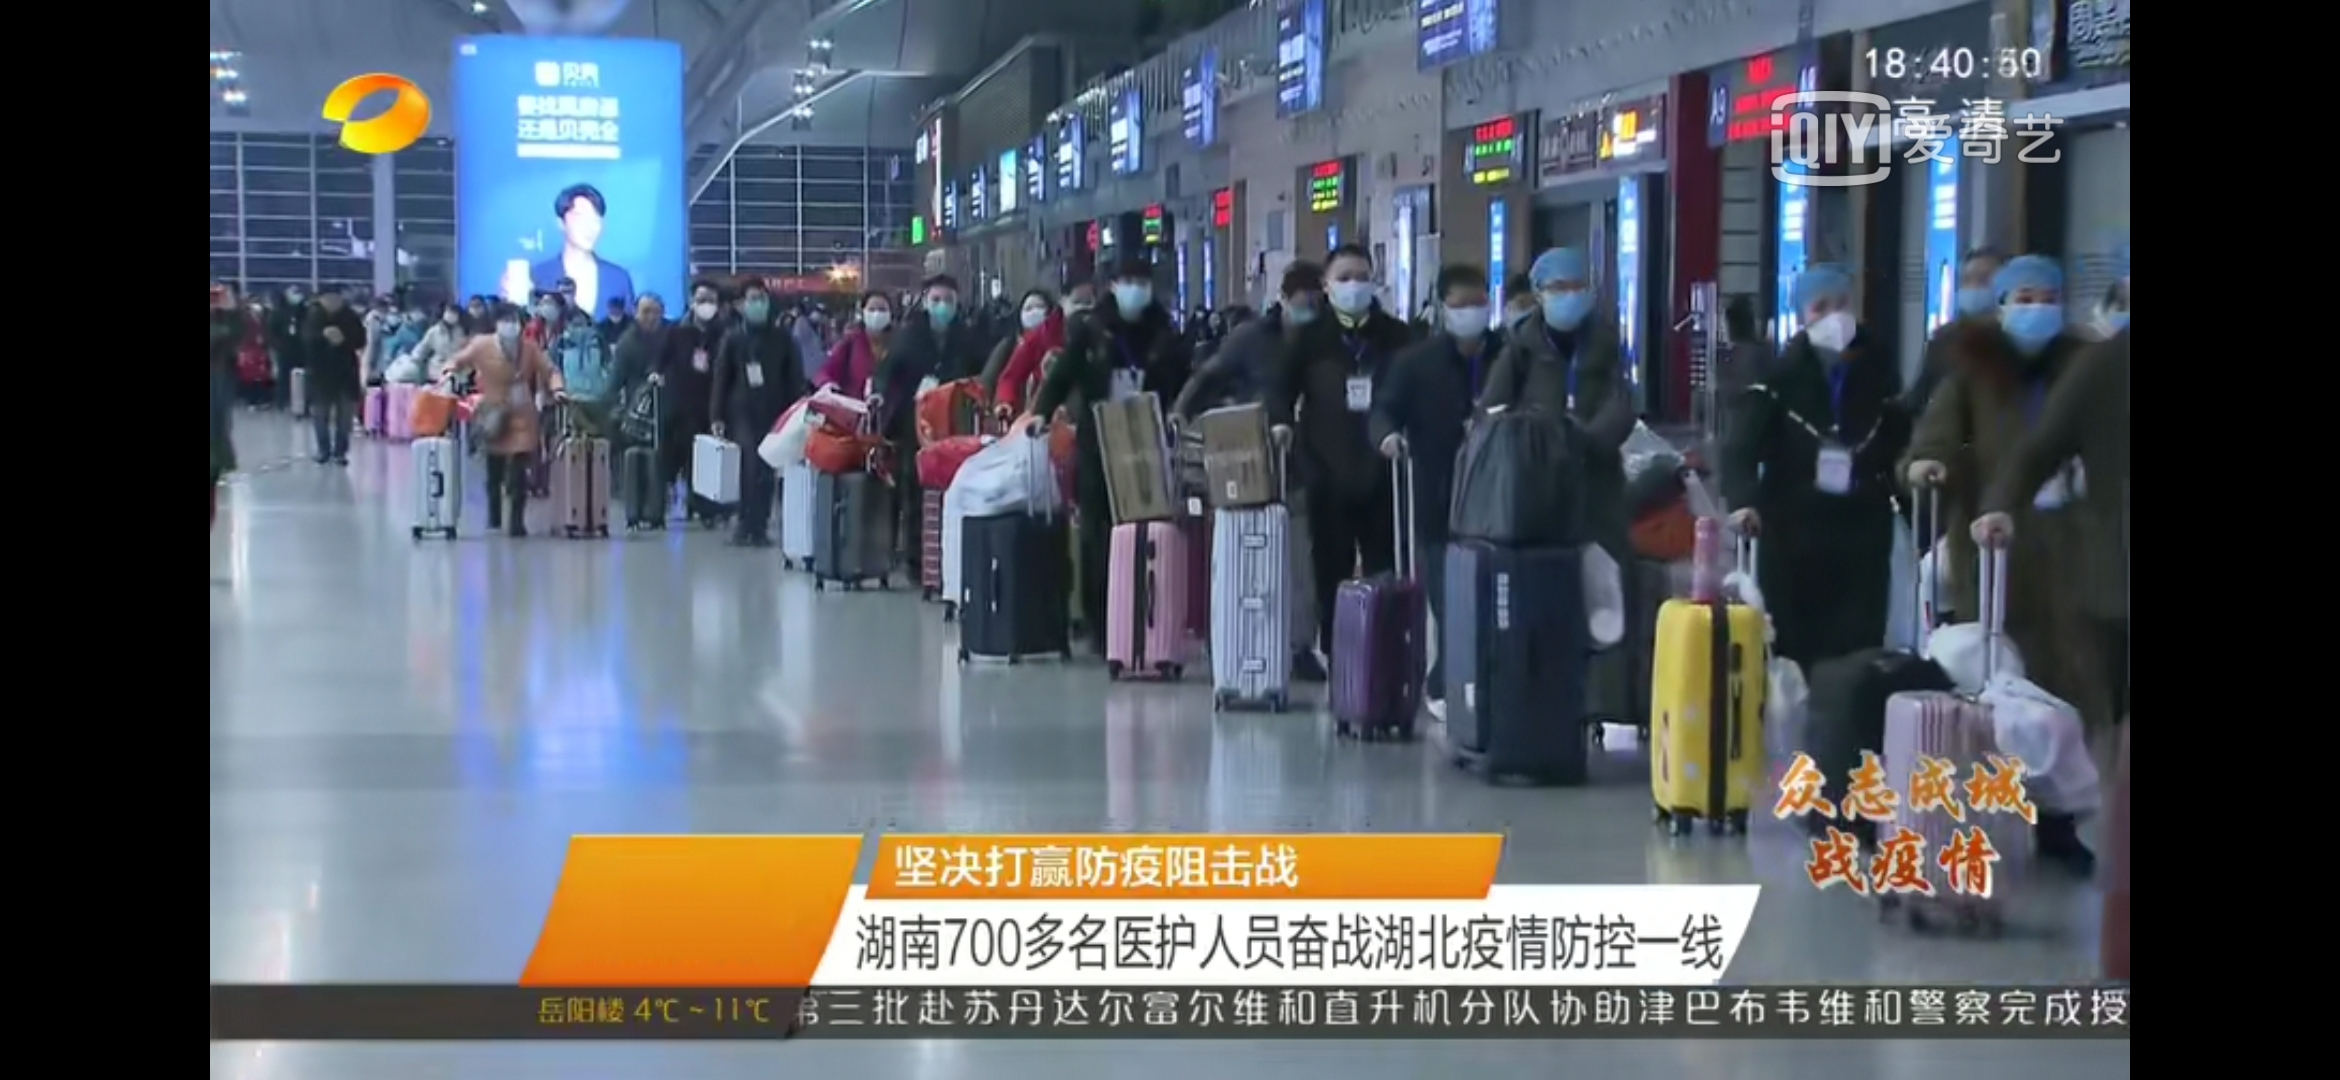correctlyWear: (1995, 283, 2070, 354), (1806, 291, 1858, 357), (1534, 274, 1589, 336), (1321, 263, 1374, 318), (1442, 285, 1492, 343), (1107, 274, 1155, 318), (921, 286, 958, 327), (1283, 291, 1321, 327), (740, 289, 772, 328), (860, 298, 894, 333), (692, 291, 719, 325), (495, 313, 522, 348), (1015, 298, 1045, 328), (443, 306, 460, 324), (470, 298, 487, 316), (609, 303, 622, 324)
noWear: (636, 301, 664, 333), (540, 294, 563, 321)
